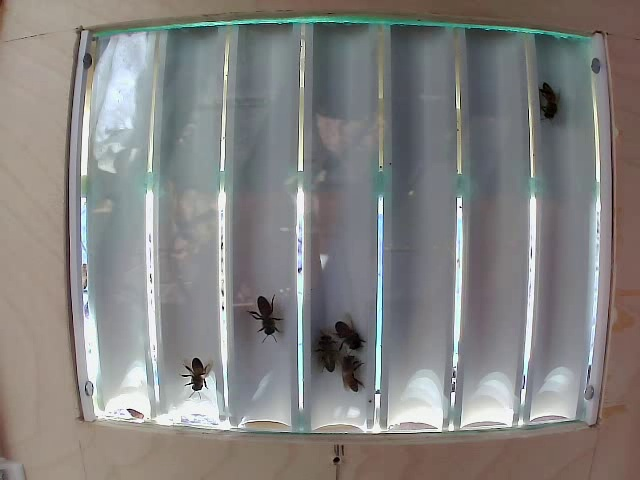bee: (229, 282, 269, 327), (177, 357, 213, 391), (329, 312, 362, 347), (535, 83, 567, 117), (335, 356, 361, 392), (307, 324, 331, 362)
